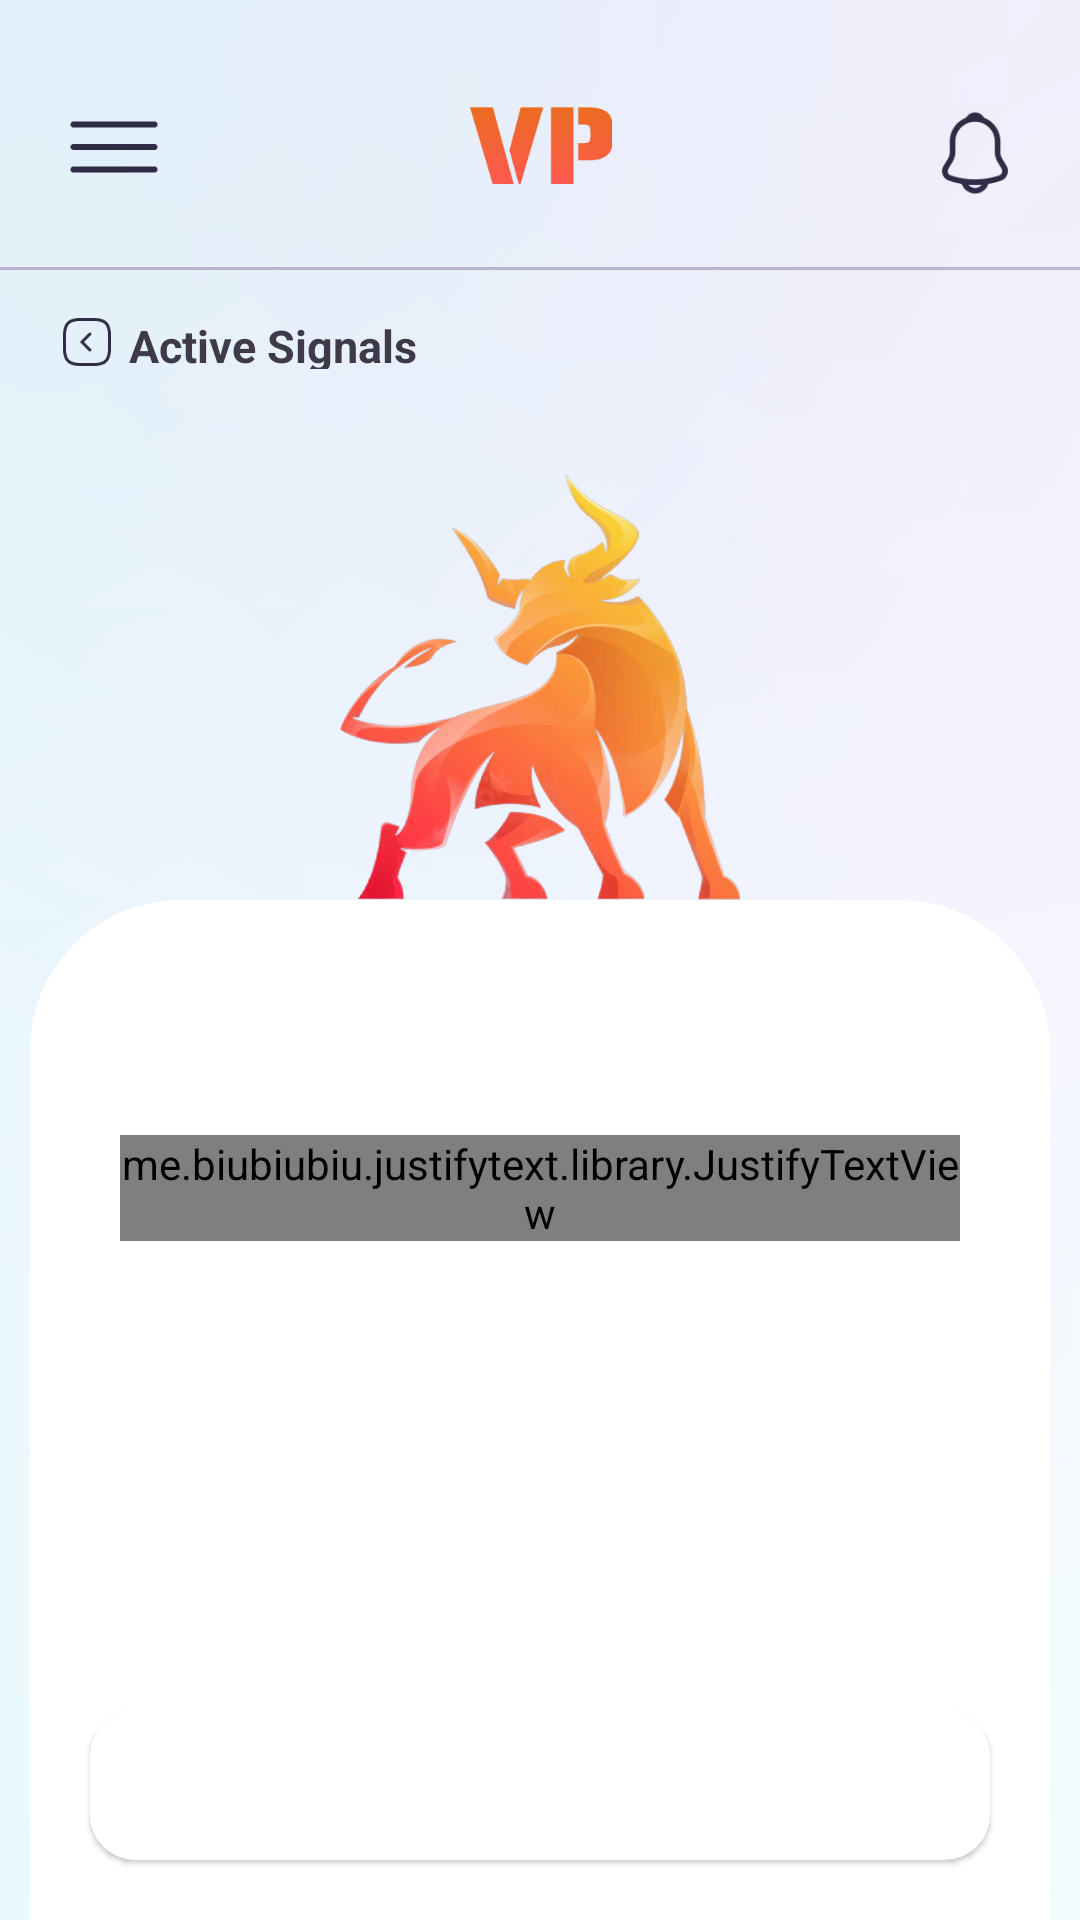

Named icons in this screenshot (1080*1920) and their bounding boxes, (x1, y1, x2, y2):
arrowleft: (63, 318, 111, 366)
menu: (70, 121, 158, 173)
notification: (942, 112, 1008, 194)
